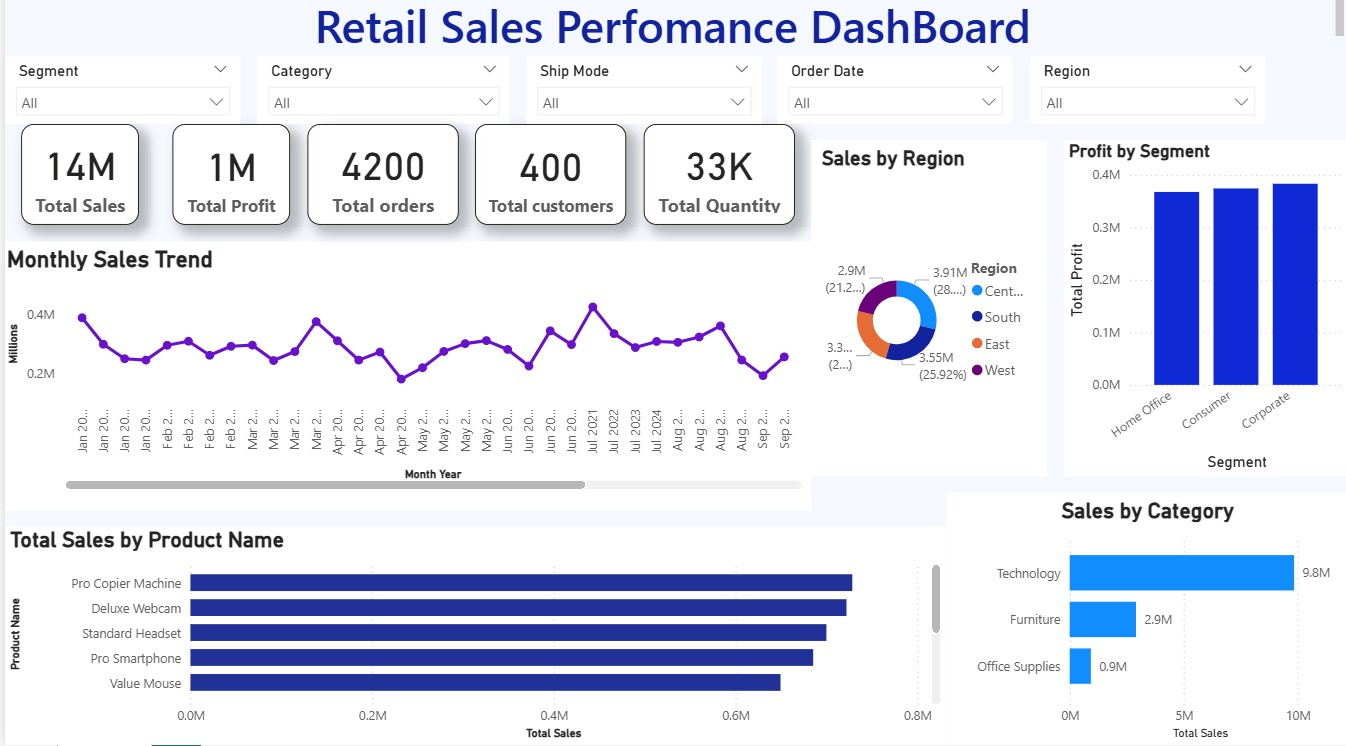

Layout of this report page (visuals, bound fields, positions):
{"tool":"powerbi","page":{"name":"Page 1","canvas":[1280,720],"ordinal":0},"visuals":[{"type":"textbox","box":[0,0,1280,64],"z":0},{"type":"card","fields":{"Values":["Orders.Total Sales"]},"box":[16,128,112,96],"z":1000},{"type":"card","fields":{"Values":["Orders.Total customers"]},"box":[448,128,144,96],"z":2000},{"type":"card","fields":{"Values":["Orders.Total Profit"]},"box":[160,128,112,96],"z":3000},{"type":"card","fields":{"Values":["Orders.Total Quantity"]},"box":[608,128,144,96],"z":4000},{"type":"slicer","fields":{"Values":["Orders.Segment"]},"box":[0,64,224,64],"z":6000},{"type":"slicer","fields":{"Values":["Orders.Category"]},"box":[240,64,240,64],"z":8000},{"type":"slicer","fields":{"Values":["Orders.Ship Mode"]},"box":[496,64,224,64],"z":9000},{"type":"lineChart","title":"Monthly Sales Trend ","fields":{"Category":["Orders.year month"],"Y":["Orders.Total Sales"]},"box":[0,240,768,256],"z":10000},{"type":"clusteredBarChart","title":"Sales by Category","fields":{"Category":["Orders.Category"],"Y":["Orders.Total Sales"]},"box":[896,480,384,240],"z":11000},{"type":"donutChart","title":"Sales by Region","fields":{"Category":["Orders.Region"],"Y":["Orders.Total Sales"]},"box":[768,144,224,320],"z":12000},{"type":"clusteredColumnChart","title":"Profit by Segment","fields":{"Category":["Orders.Segment"],"Y":["Orders.Total Profit"]},"box":[1008,144,272,320],"z":13000},{"type":"clusteredBarChart","fields":{"Category":["Orders.Product Name"],"Y":["Orders.Total Sales"]},"box":[0,512,896,208],"z":14000},{"type":"card","fields":{"Values":["Orders.Total orders"]},"box":[288,128,144,96],"z":15000},{"type":"slicer","fields":{"Values":["Orders.Order Date"]},"box":[736,64,224,64],"z":15001},{"type":"slicer","fields":{"Values":["Orders.Region"]},"box":[976,64,224,64],"z":15002}]}

Visuals, with their boxes in screenshot pixels (x1, y1, x2, y2), scaled from the page's 1280x720 canvas onto the 1346x746 screenshot:
textbox: select_region(0, 0, 1345, 66)
card - Orders.Total Sales: select_region(17, 133, 135, 232)
card - Orders.Total customers: select_region(471, 133, 623, 232)
card - Orders.Total Profit: select_region(168, 133, 286, 232)
card - Orders.Total Quantity: select_region(639, 133, 791, 232)
slicer - Orders.Segment: select_region(0, 66, 236, 133)
slicer - Orders.Category: select_region(252, 66, 505, 133)
slicer - Orders.Ship Mode: select_region(522, 66, 757, 133)
"Monthly Sales Trend " lineChart: select_region(0, 249, 808, 514)
"Sales by Category" clusteredBarChart: select_region(942, 497, 1345, 745)
"Sales by Region" donutChart: select_region(808, 149, 1043, 481)
"Profit by Segment" clusteredColumnChart: select_region(1060, 149, 1345, 481)
clusteredBarChart - Orders.Product Name x Orders.Total Sales: select_region(0, 530, 942, 745)
card - Orders.Total orders: select_region(303, 133, 454, 232)
slicer - Orders.Order Date: select_region(774, 66, 1010, 133)
slicer - Orders.Region: select_region(1026, 66, 1262, 133)
